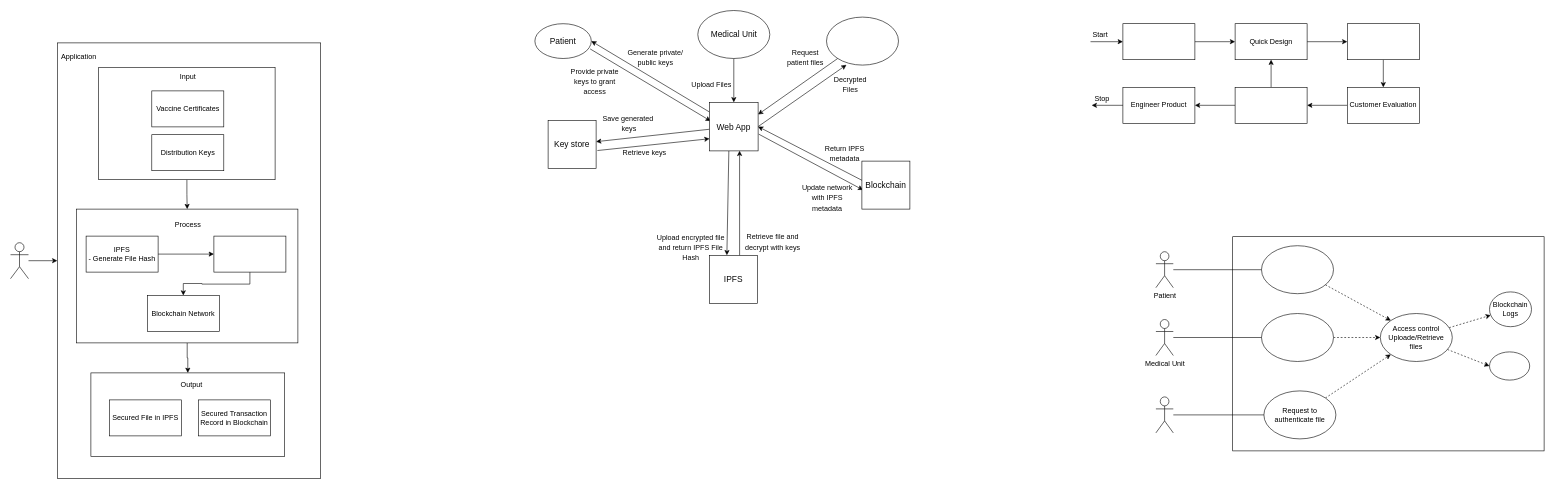
Some shapes in this 1555 by 489 pixel diagram are drawn without their labels. Each missing label, with the centre of its shape:
"Building Prototype" belongs at (x=1383, y=41).
"Create vaccine records" belongs at (x=1297, y=337).
"IPFS Files" belongs at (x=1509, y=365).
"Refining Prototype" belongs at (x=1270, y=105).
"Registration to generate keys" belongs at (x=1297, y=269).
"Requirements Modeling" belongs at (x=1158, y=41).
"Smart Contract Rules" belongs at (x=249, y=254).
"User" belongs at (x=19, y=260).
"Validator" belongs at (x=1164, y=414).
"Verifying 3rd Party" belongs at (x=862, y=40).
